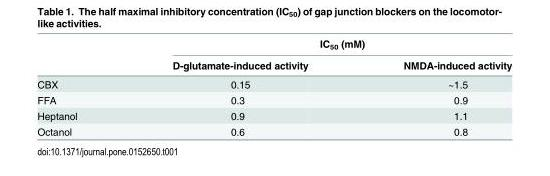table: (36, 37, 511, 136)
table column: (124, 37, 355, 136), (355, 37, 511, 136), (36, 37, 124, 136)
table column header: (36, 37, 511, 74)
table row: (36, 54, 511, 74), (36, 37, 511, 54), (36, 74, 511, 91), (36, 91, 511, 107), (36, 107, 511, 123), (36, 123, 511, 136)
table spanning cell: (124, 37, 511, 54)
